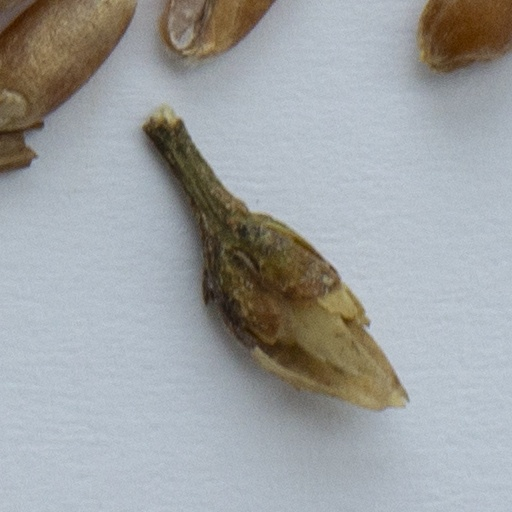Wheat-grain-damaged-poly: (154, 0, 286, 68)
